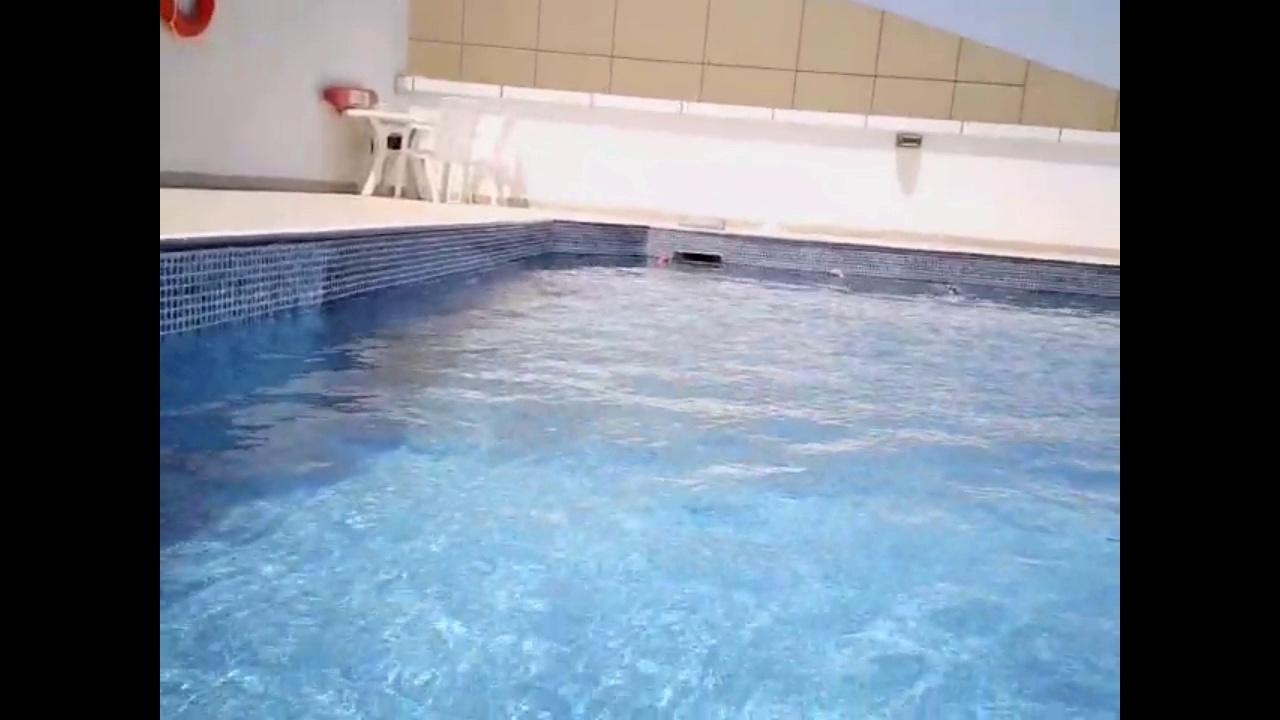debris: (941, 280, 960, 301), (650, 252, 673, 269), (824, 262, 844, 281)
